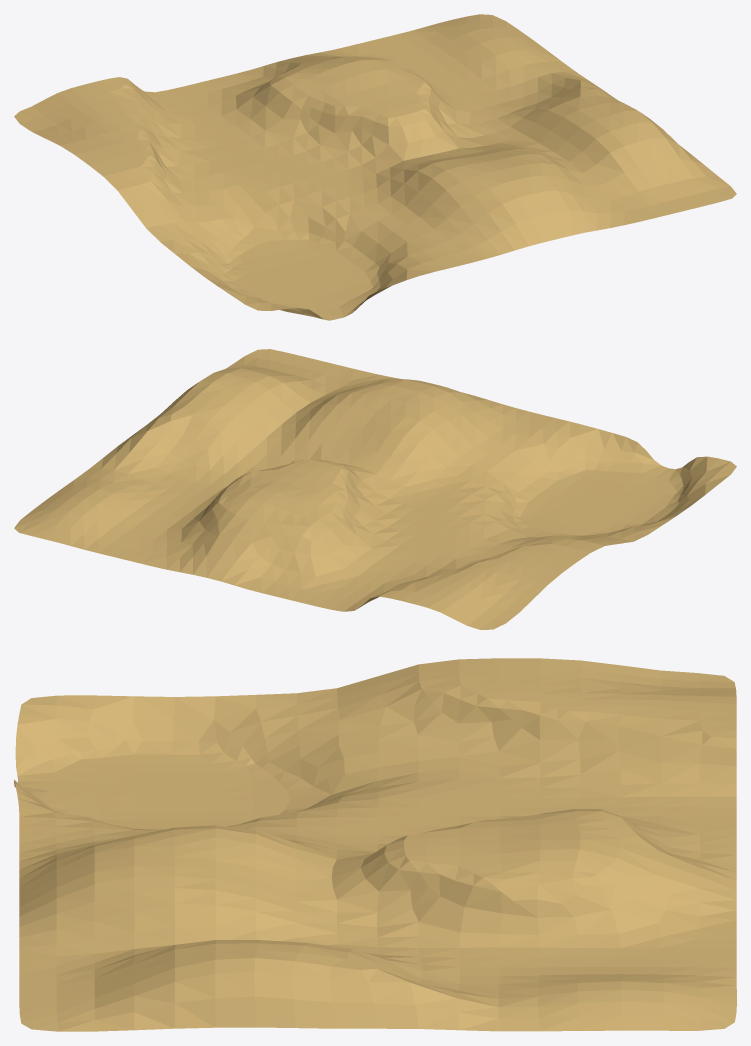
Rendered from new_world.dae.
3 renders of one model, top to bottom at view 1: azimuth 30°, elevation 25°; view 2: azimuth 150°, elevation 25°; view 3: azimuth 270°, elevation 25°, orthographic. The views are drawn at different scales.
Parts seen in each view (by area): view 1: ground; view 2: ground; view 3: ground.
Part boxes in pixels (bbox=[...]): ground: bbox=[14, 14, 736, 320]; ground: bbox=[14, 349, 736, 629]; ground: bbox=[14, 658, 736, 1031].
Size of the model in its own units: 21.67 by 19.63 by 2.58.
